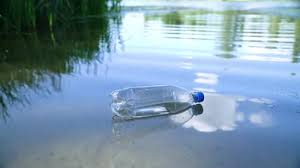Botella: (112, 85, 203, 118)
